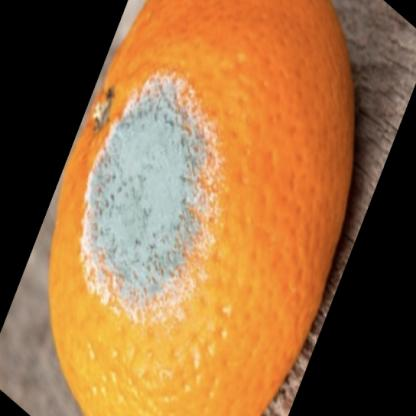rotten: (50, 5, 356, 416)
